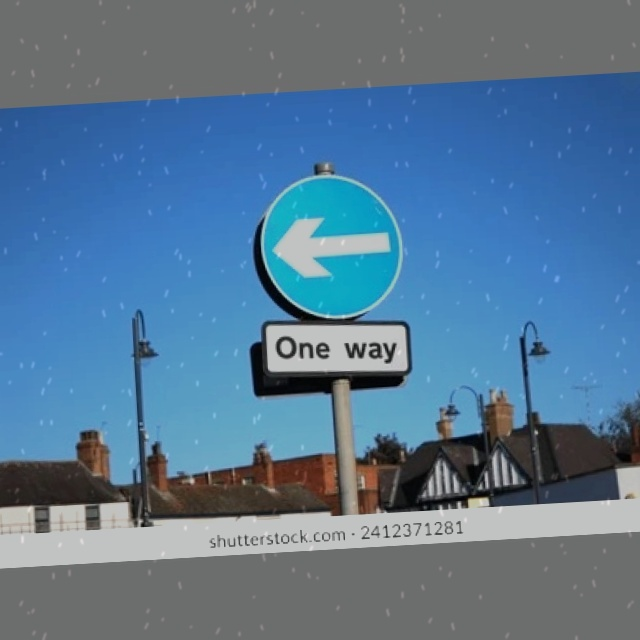Compulsory_Turn_Left: (246, 166, 408, 325)
